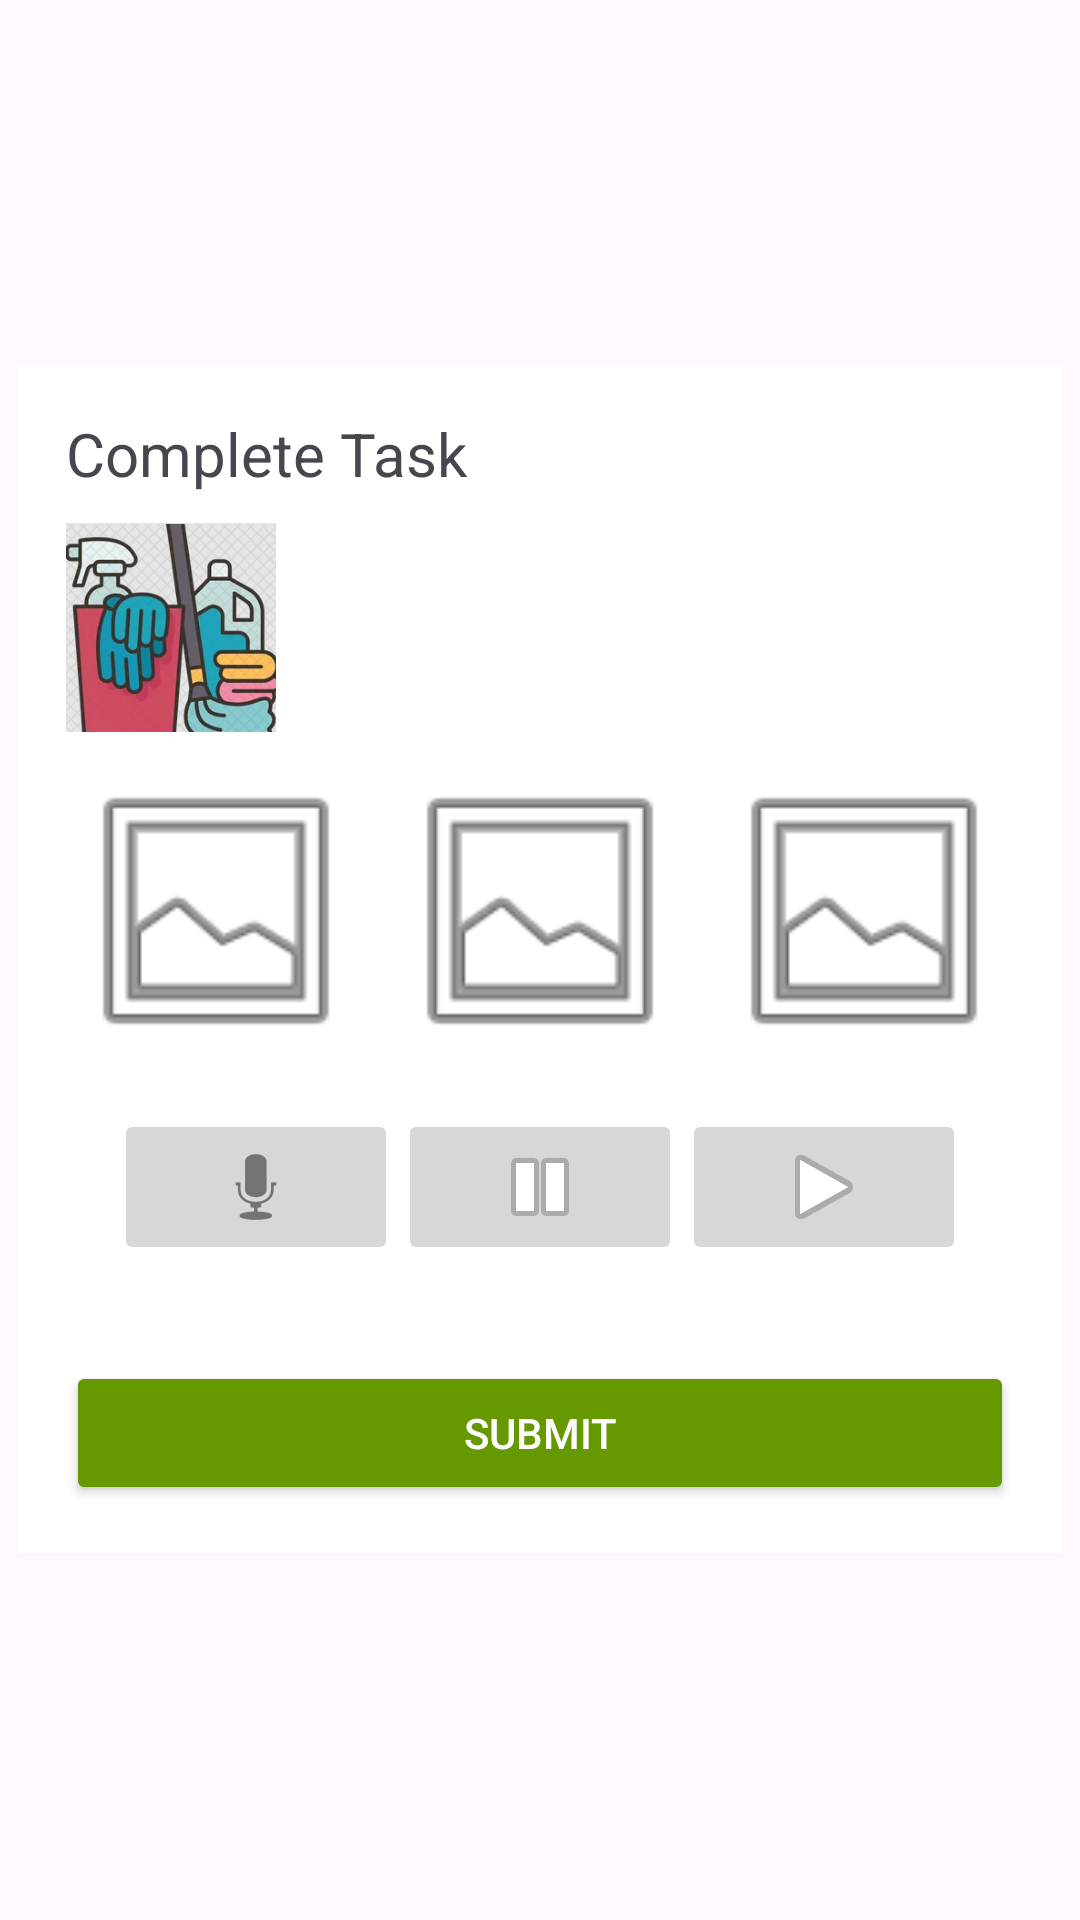

Icons on this 1080×1920 Android screen, each with the point to tap as (x,y):
gallery: (216,911), (540,911), (864,911)
Play: (824,1187)
Record: (256,1187)
